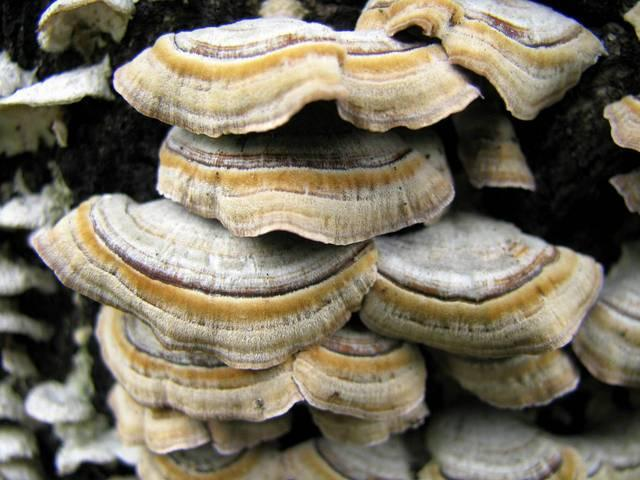poisonous_mushroom: (26, 0, 624, 479), (110, 14, 483, 138)
